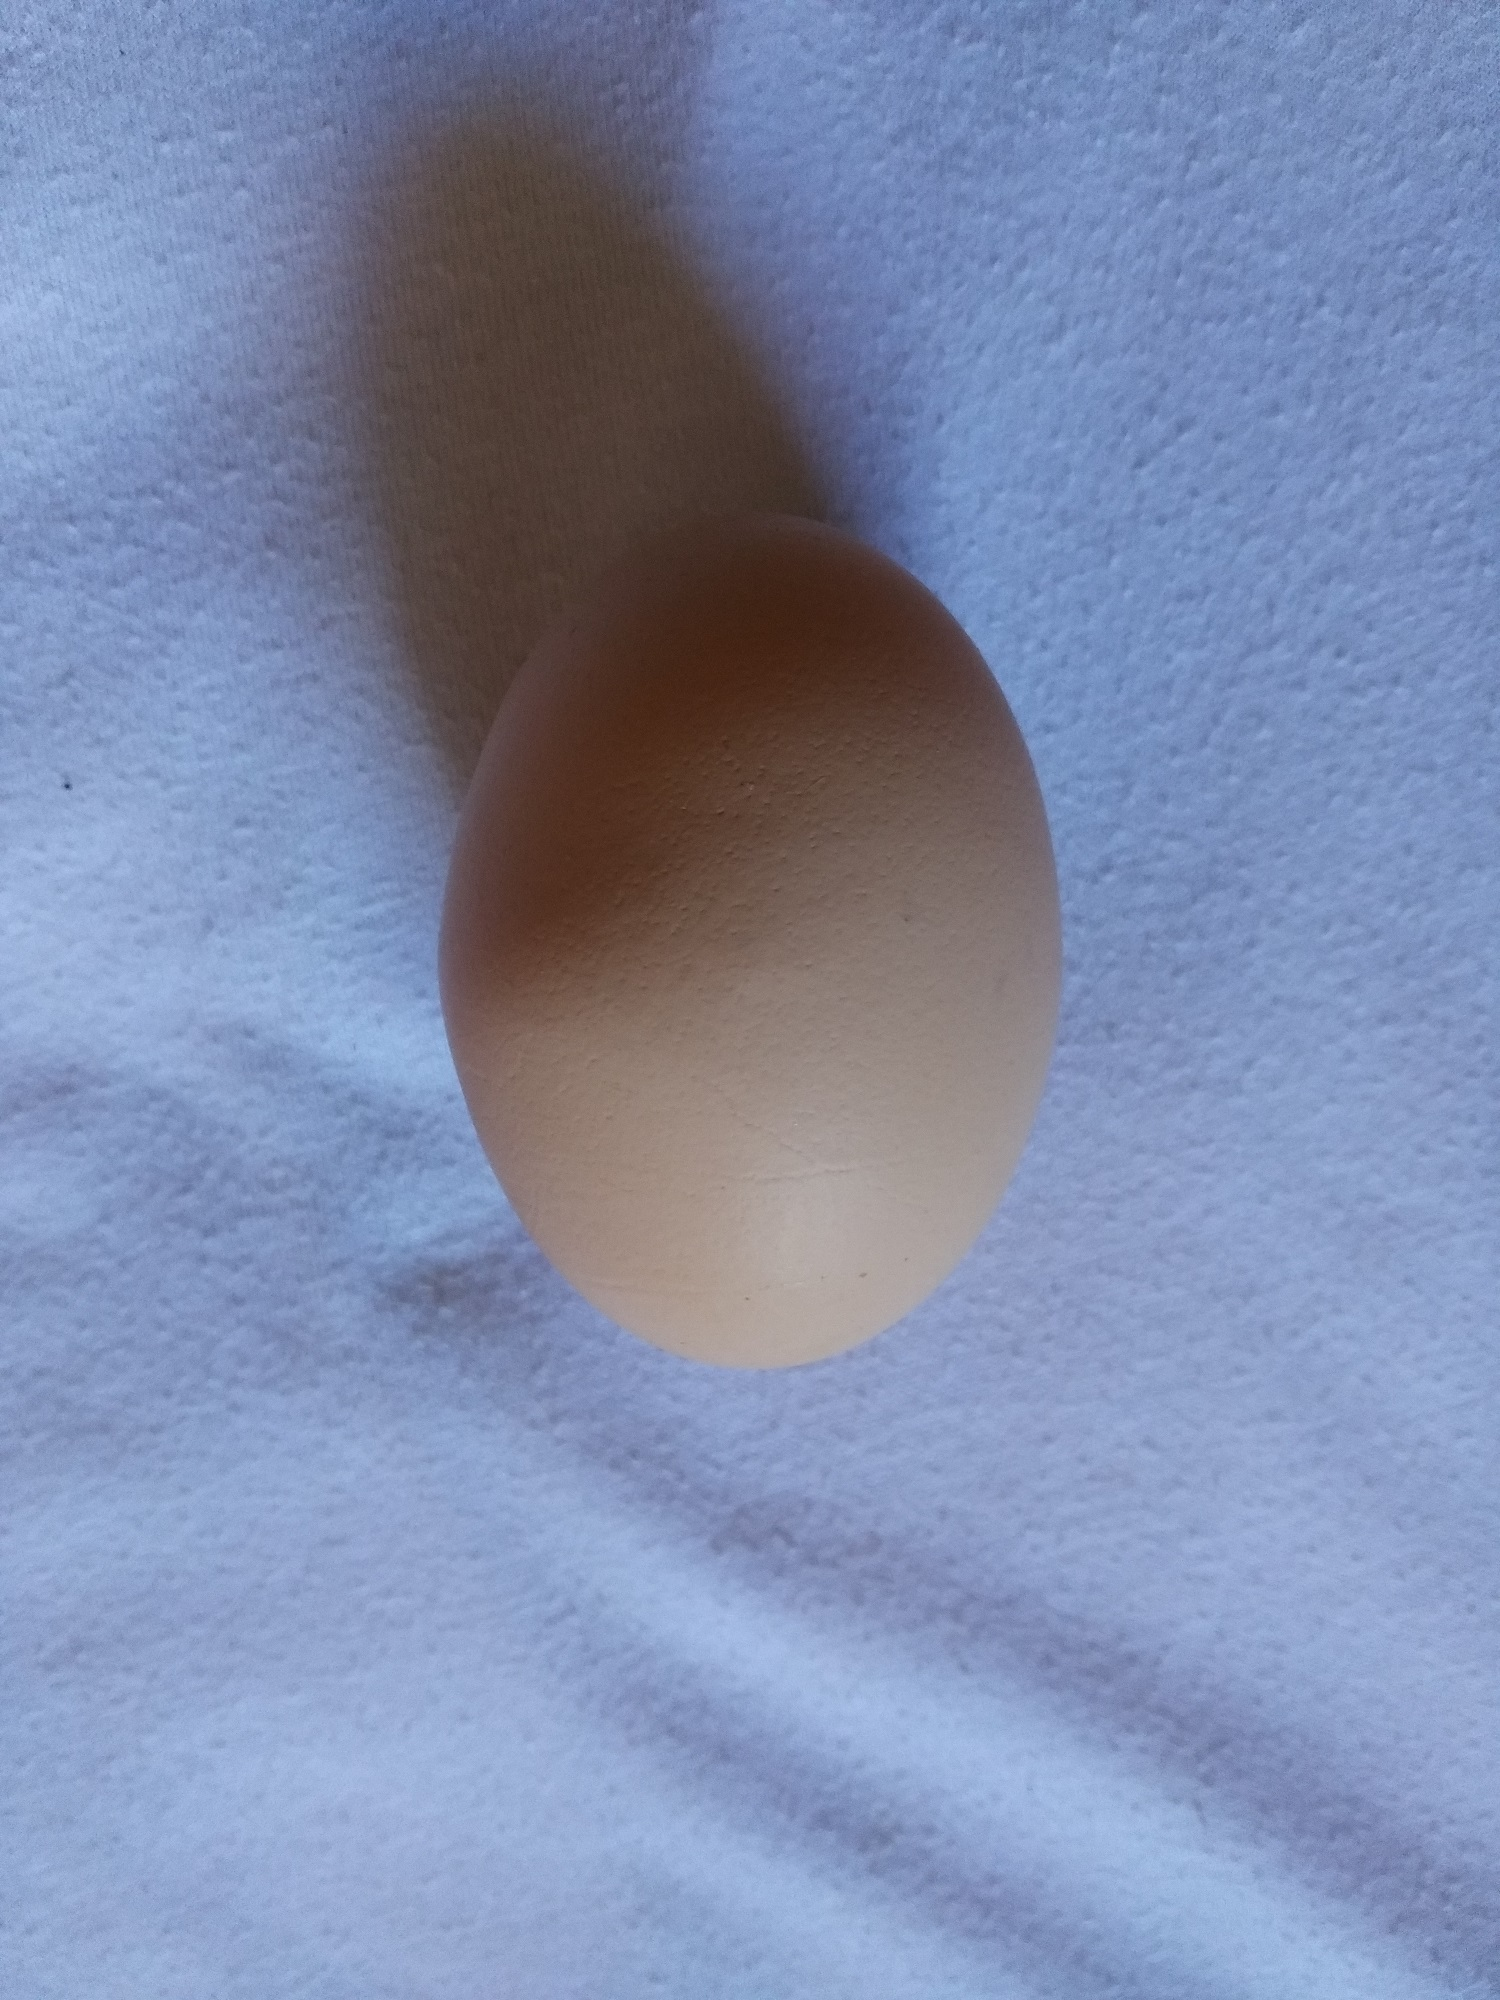Female: (429, 507, 1086, 1380)
